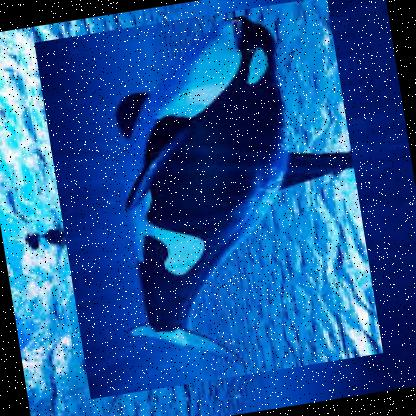killer_whale: (33, 0, 384, 399)
